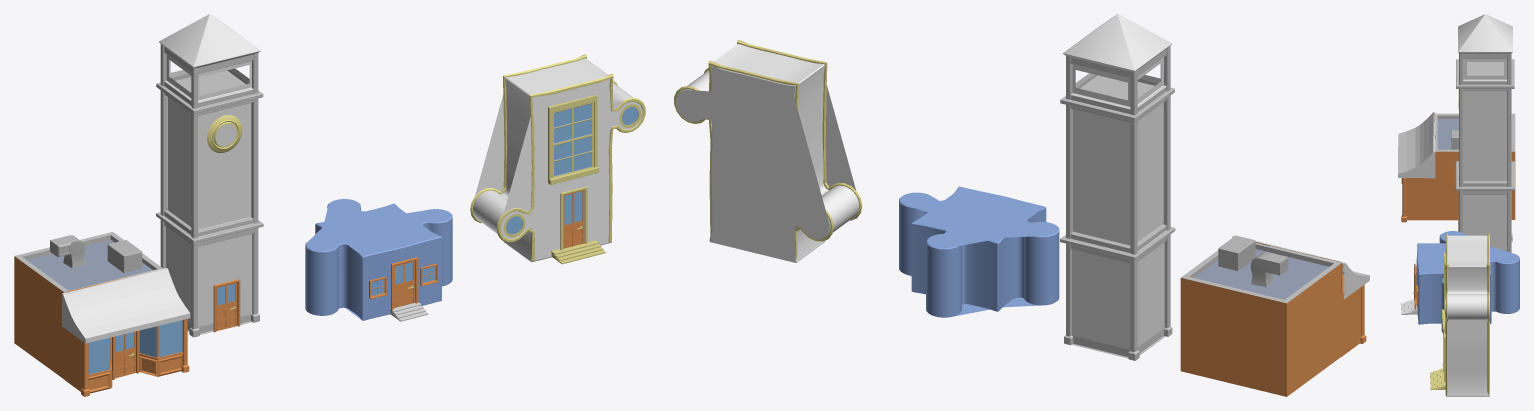
The model's file is Town.fbx.
3 renders of one model, left to right at view 1: azimuth 30°, elevation 25°; view 2: azimuth 150°, elevation 25°; view 3: azimuth 270°, elevation 25°, orthographic. The views are drawn at different scales.
Visible parts, largest first — view 1: Cube, Cube.020, Cube.018, Cube.002, Cube.013, Cube.012, Cube.001, Window.003, Cube.017, Door.004, Door.002, Door.003 (+7 smaller); view 2: Cube, Cube.020, Cube.002, Cube.018, Cube.012, Cube.001, Cube.021, Cube.016, Cube.017, Cube.015, Cube.013; view 3: Cube, Cube.020, Cube.018, Cube.002, Cube.013, Cube.012, Cube.001, Cube.017, Cube.021, Stairs.002, Stairs.001, Cube.014 (+3 smaller).
Part boxes in pixels (x1,y1,x2,y2): Cube: [156, 14, 263, 334]; Cube.020: [473, 58, 642, 262]; Cube.018: [305, 199, 452, 320]; Cube.002: [14, 232, 162, 379]; Cube.013: [62, 268, 190, 343]; Cube.012: [160, 44, 259, 337]; Cube.001: [64, 275, 183, 393]; Window.003: [548, 95, 598, 184]; Cube.017: [496, 74, 645, 261]; Door.004: [560, 186, 587, 250]; Door.002: [213, 279, 240, 332]; Door.003: [391, 257, 418, 311]; Cube: [1060, 14, 1175, 358]; Cube.020: [675, 44, 859, 262]; Cube.002: [1180, 242, 1342, 396]; Cube.018: [899, 186, 1059, 317]; Cube.012: [1064, 46, 1172, 360]; Cube.001: [1255, 242, 1360, 356]; Cube.021: [674, 60, 833, 258]; Cube.016: [1218, 235, 1255, 270]; Cube.017: [704, 40, 862, 220]; Cube.015: [1250, 252, 1288, 287]; Cube.013: [1232, 235, 1369, 298]; Cube: [1455, 14, 1514, 251]; Cube.020: [1446, 235, 1489, 396]; Cube.018: [1416, 231, 1519, 332]; Cube.002: [1433, 113, 1515, 220]; Cube.013: [1398, 112, 1435, 178]; Cube.012: [1459, 53, 1512, 252]; Cube.001: [1406, 113, 1435, 220]; Cube.017: [1445, 233, 1448, 395]; Cube.021: [1486, 233, 1490, 394]; Stairs.002: [1430, 368, 1445, 390]; Stairs.001: [1400, 299, 1417, 314]; Cube.014: [1401, 178, 1406, 222].
Size of the model in its own units: 6154 by 3012 by 1397.
